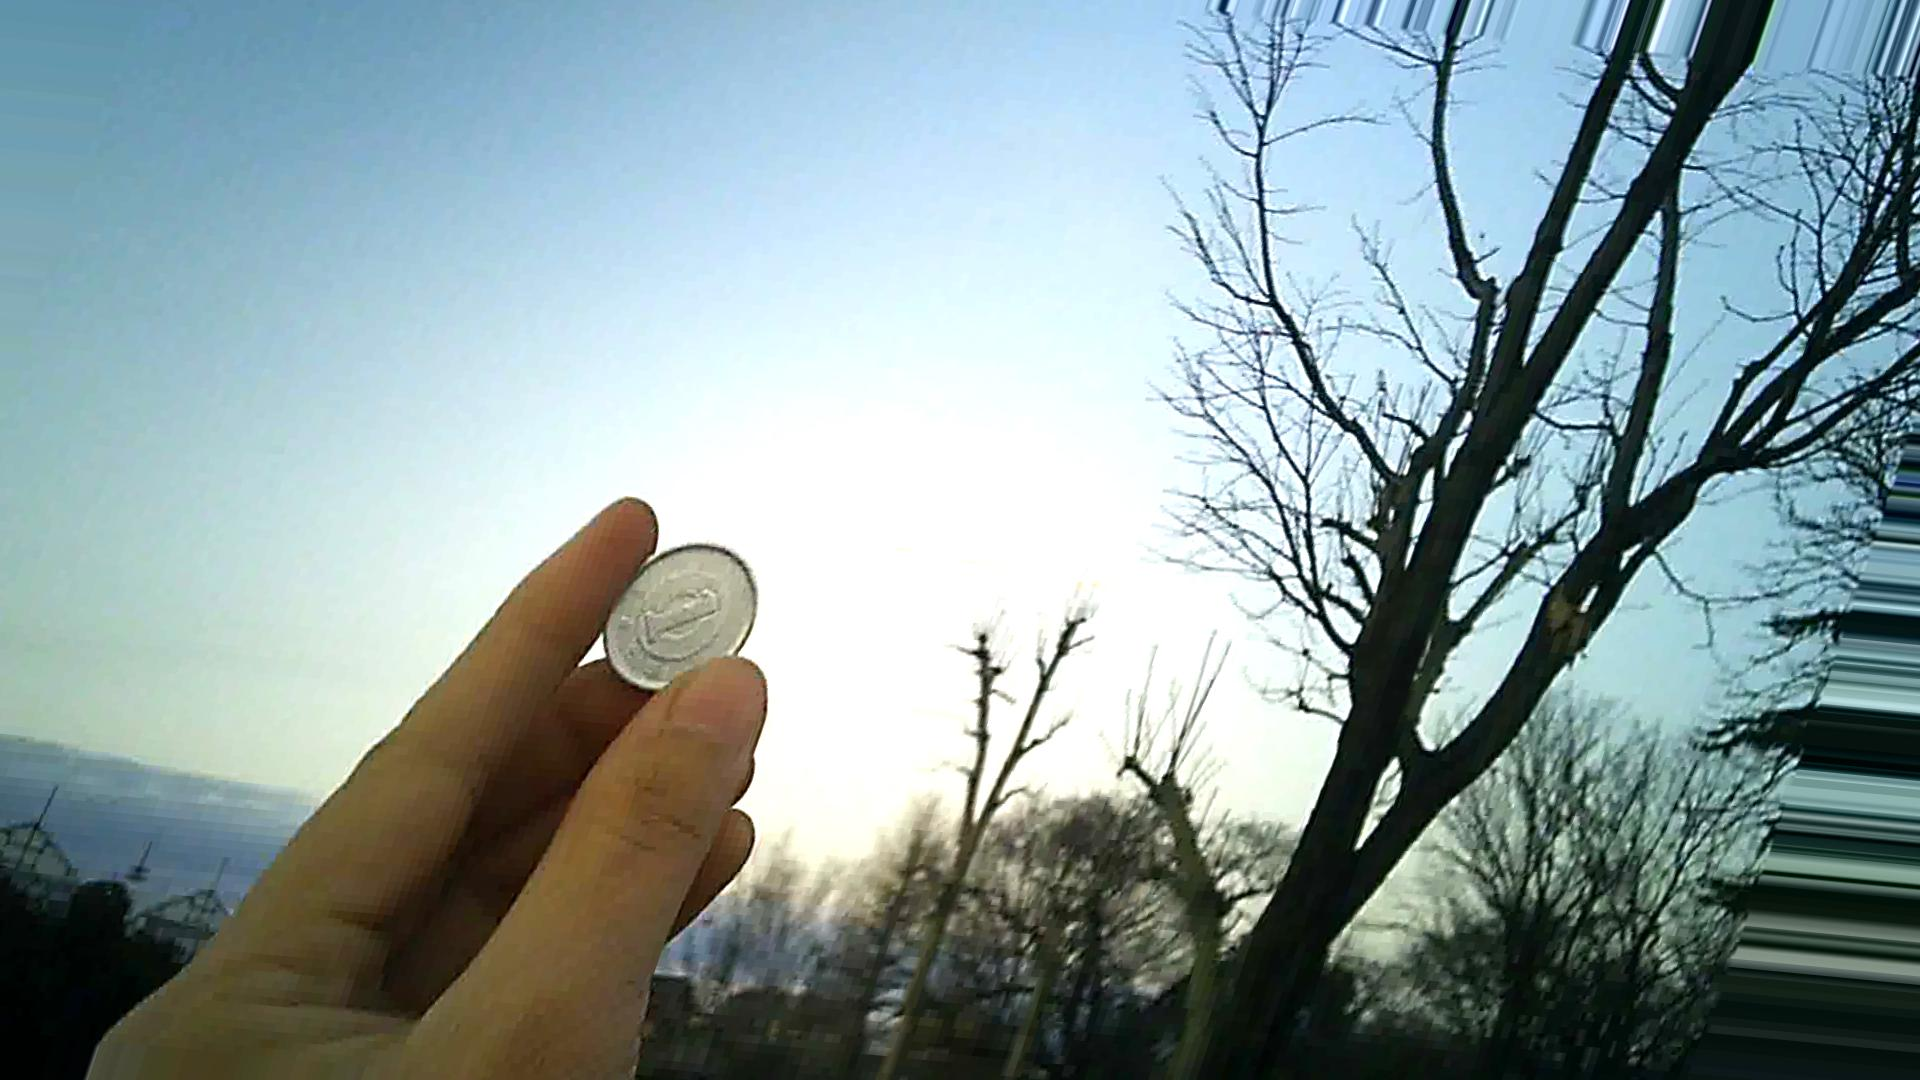1 Yen: (570, 518, 771, 694)
